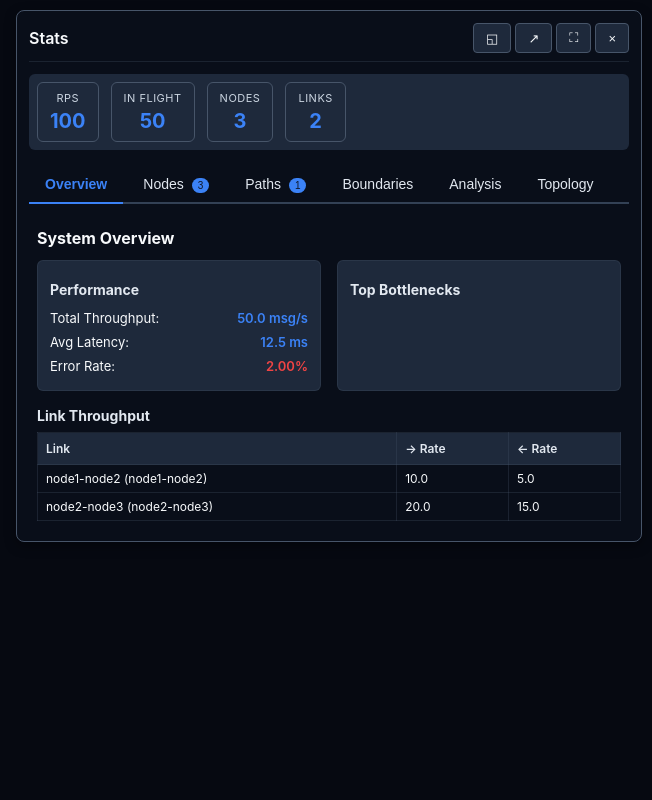
Test case: StatsOverlayEnhanced › shows connectivity matrix in topology tab
Click the button with class "stats-tab" showing "Topology". click: (565, 184)
box: x1=521 y1=166 x2=609 y2=202
(page scrolled)
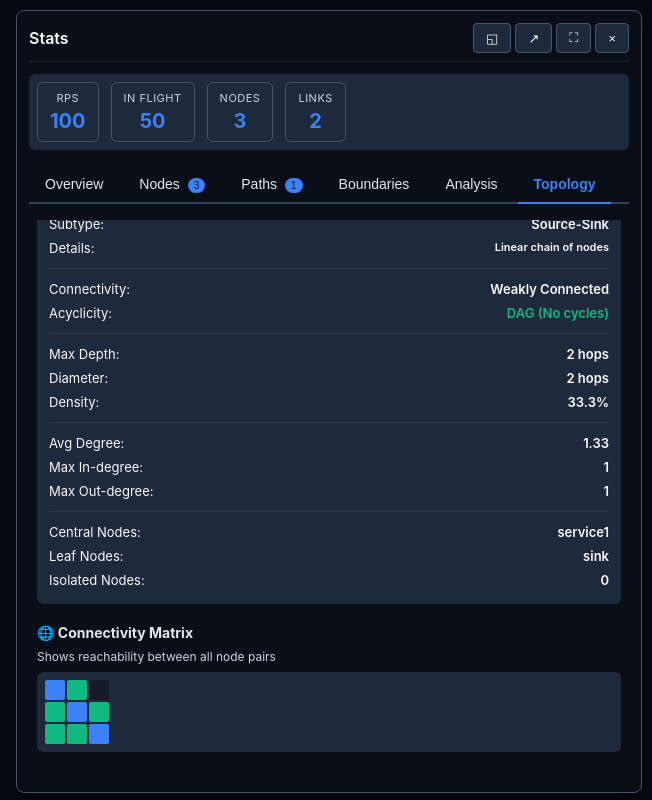
Expected: the element with class "connectivity-matrix" is shown, x1=37 y1=672 x2=621 y2=752
